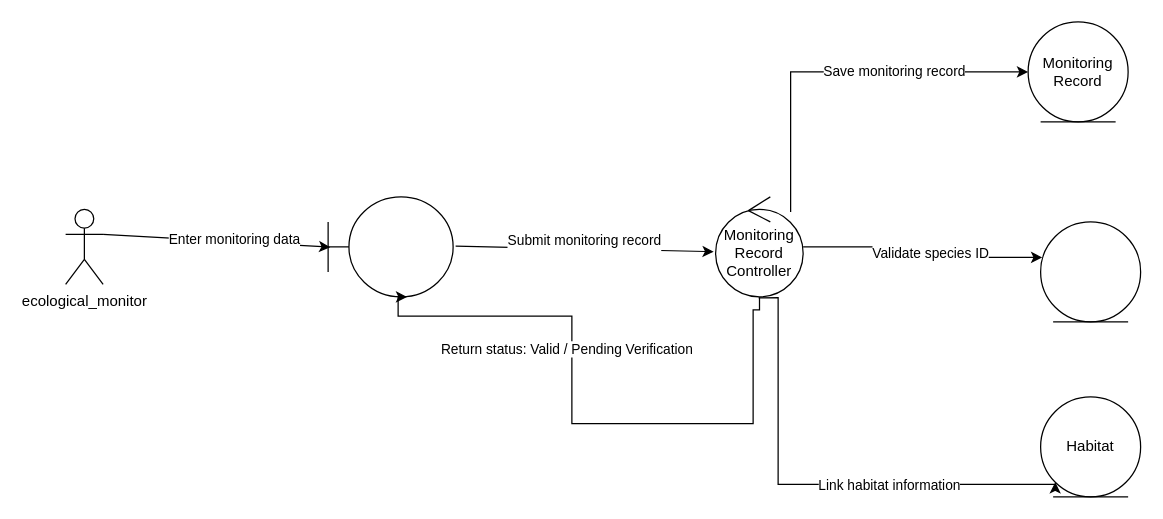
Some shapes in this 1163 by 519 pixel diagram are drawn without their labels. The box of each missing label's shape, as (x1, y1, x2, y2) in pixels:
Monitoring Record Upload Interface: (327, 196, 453, 297)
Species: (1039, 221, 1141, 322)
